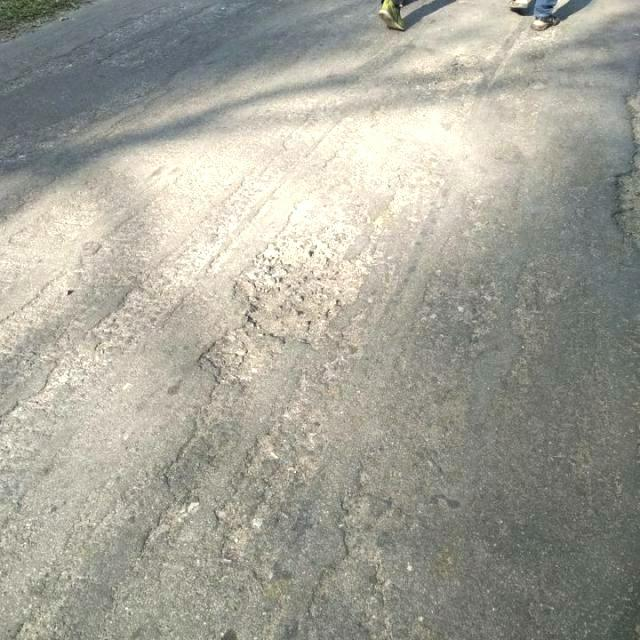Pothole: (236, 239, 372, 341), (199, 332, 262, 381)
